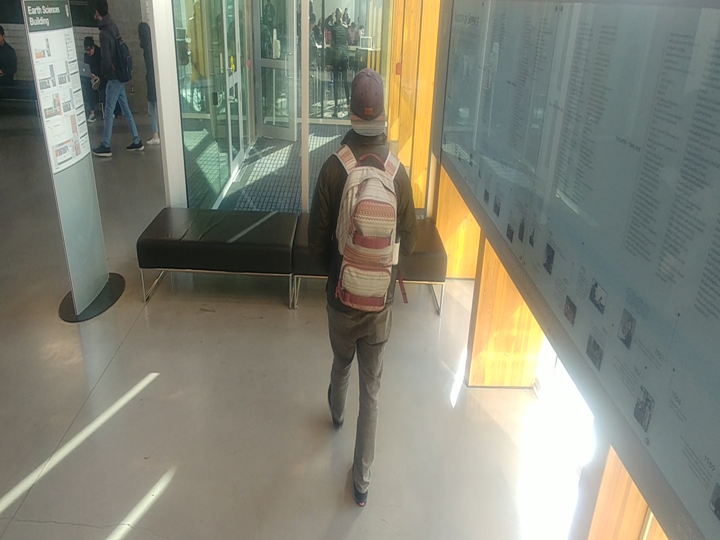face: (344, 64, 397, 143), (127, 16, 155, 50), (87, 0, 120, 25), (75, 29, 97, 66), (328, 6, 348, 29)
human: (301, 64, 424, 511), (89, 0, 145, 162), (130, 14, 164, 146), (323, 5, 356, 122), (79, 32, 104, 128)
